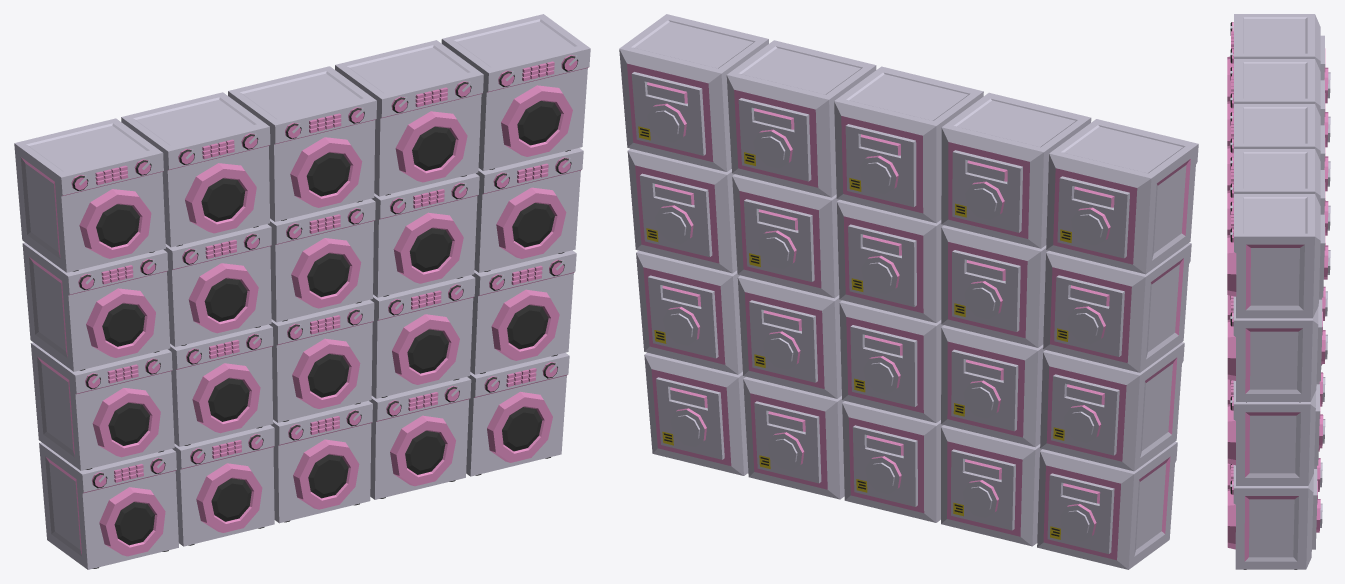
The model's file is Wall_WashingMachines.fbx.
The picture shows the model from 3 angles, left to right: view 1: azimuth 30°, elevation 25°; view 2: azimuth 150°, elevation 25°; view 3: azimuth 270°, elevation 25°; orthographic projection. The views are drawn at different scales.
Parts seen in each view (by area): view 1: Wall_WashingMachines; view 2: Wall_WashingMachines; view 3: Wall_WashingMachines.
Part boxes in pixels (bbox=[...]): Wall_WashingMachines: bbox=[14, 14, 590, 569]; Wall_WashingMachines: bbox=[619, 14, 1198, 569]; Wall_WashingMachines: bbox=[1227, 14, 1330, 569].
Bounding box in the file's own units: 1745 × 1268 × 342.
